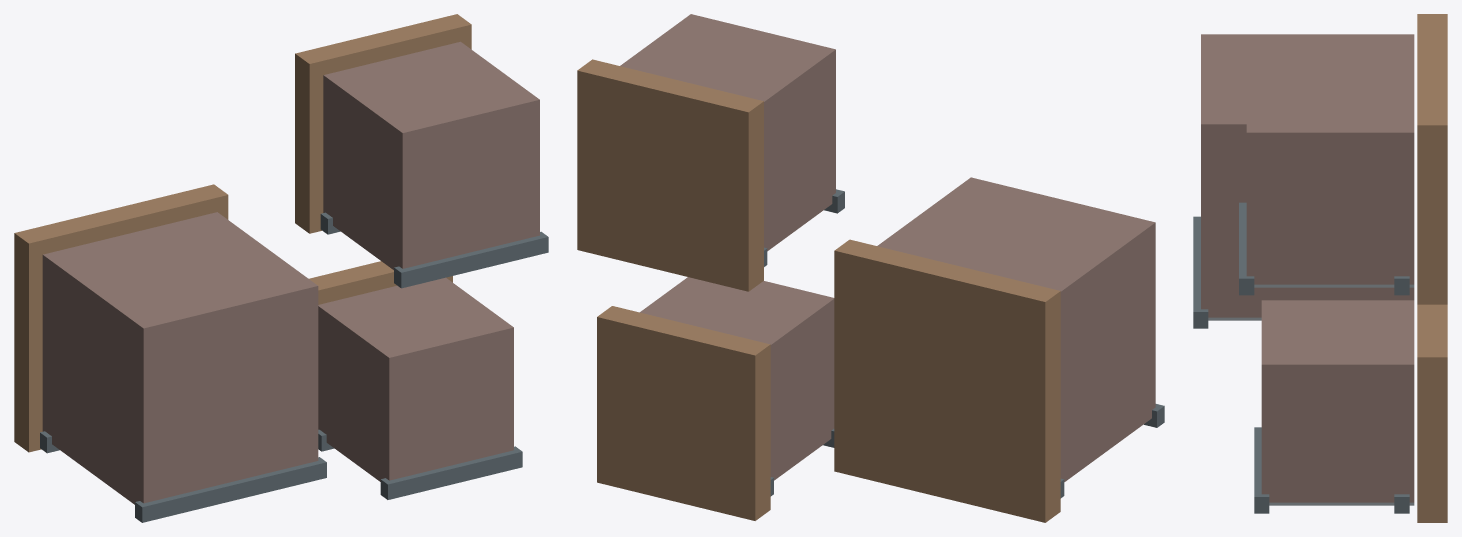
File: powerquest_cargo_crates.glb
3 renders of one model, left to right at view 1: azimuth 30°, elevation 25°; view 2: azimuth 150°, elevation 25°; view 3: azimuth 270°, elevation 25°, orthographic. The views are drawn at different scales.
Parts seen in each view (by area): view 1: cargo_crates_000, cargo_crates_012, cargo_crates_006, cargo_crates_005, cargo_crates_017, cargo_crates_002, cargo_crates_014, cargo_crates_008, cargo_crates_011; view 2: cargo_crates_005, cargo_crates_017, cargo_crates_000, cargo_crates_011, cargo_crates_012, cargo_crates_006; view 3: cargo_crates_012, cargo_crates_006, cargo_crates_000, cargo_crates_017, cargo_crates_011, cargo_crates_002, cargo_crates_014, cargo_crates_005, cargo_crates_008, cargo_crates_016, cargo_crates_010, cargo_crates_007 (+1 smaller).
Part boxes in pixels (x1=…): cargo_crates_000: x1=42, y1=212, x2=318, y2=504; cargo_crates_012: x1=323, y1=41, x2=539, y2=269; cargo_crates_006: x1=318, y1=277, x2=513, y2=481; cargo_crates_005: x1=14, y1=184, x2=228, y2=452; cargo_crates_017: x1=295, y1=14, x2=471, y2=233; cargo_crates_002: x1=135, y1=457, x2=326, y2=522; cargo_crates_014: x1=394, y1=231, x2=548, y2=288; cargo_crates_008: x1=380, y1=446, x2=522, y2=499; cargo_crates_011: x1=309, y1=261, x2=452, y2=304; cargo_crates_005: x1=834, y1=239, x2=1060, y2=522; cargo_crates_017: x1=577, y1=59, x2=763, y2=291; cargo_crates_000: x1=877, y1=177, x2=1155, y2=481; cargo_crates_011: x1=597, y1=306, x2=770, y2=520; cargo_crates_012: x1=620, y1=14, x2=835, y2=251; cargo_crates_006: x1=640, y1=277, x2=834, y2=480; cargo_crates_012: x1=1246, y1=61, x2=1414, y2=284; cargo_crates_006: x1=1261, y1=300, x2=1414, y2=502; cargo_crates_000: x1=1201, y1=34, x2=1414, y2=317; cargo_crates_017: x1=1417, y1=41, x2=1447, y2=304; cargo_crates_011: x1=1417, y1=304, x2=1447, y2=522; cargo_crates_002: x1=1193, y1=216, x2=1208, y2=328; cargo_crates_014: x1=1239, y1=202, x2=1254, y2=295; cargo_crates_005: x1=1417, y1=14, x2=1447, y2=41; cargo_crates_008: x1=1254, y1=427, x2=1269, y2=513; cargo_crates_016: x1=1254, y1=284, x2=1414, y2=287; cargo_crates_010: x1=1269, y1=502, x2=1414, y2=505; cargo_crates_007: x1=1394, y1=494, x2=1409, y2=513.
Size of the model in its own units: 3.55 by 2.95 by 1.67.
